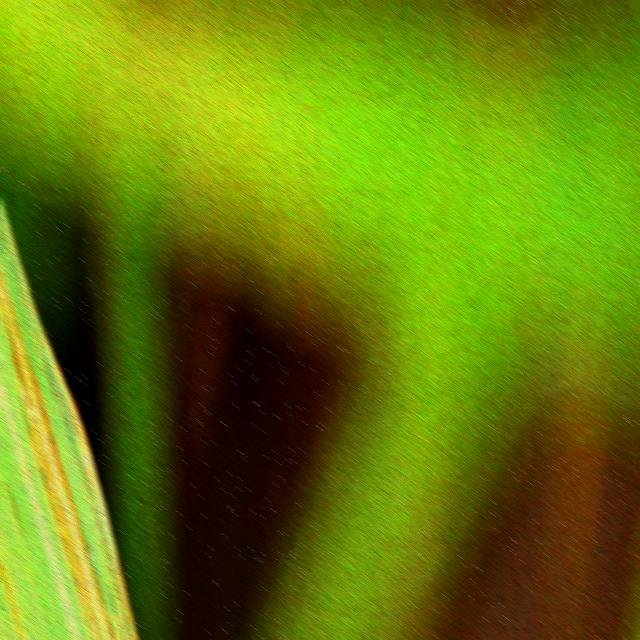BLS: (14, 273, 136, 640), (0, 269, 117, 640), (33, 302, 138, 640), (0, 293, 102, 640), (0, 556, 25, 640), (103, 580, 125, 640)
